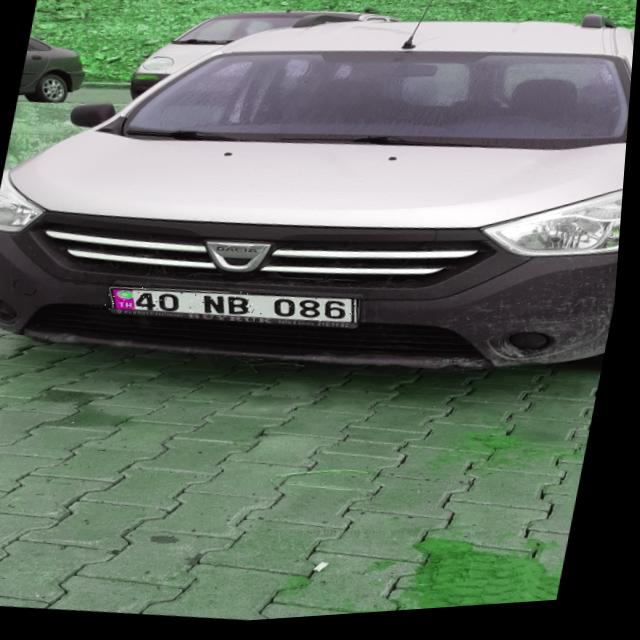license_plate: (107, 272, 365, 342)
